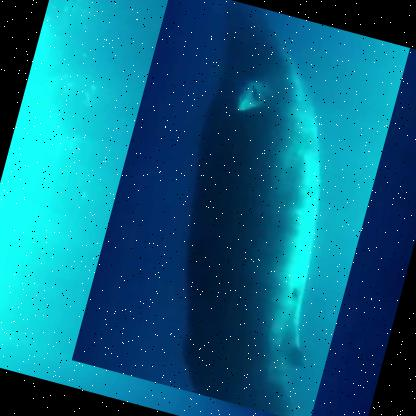blue_whale: (71, 0, 412, 415)
